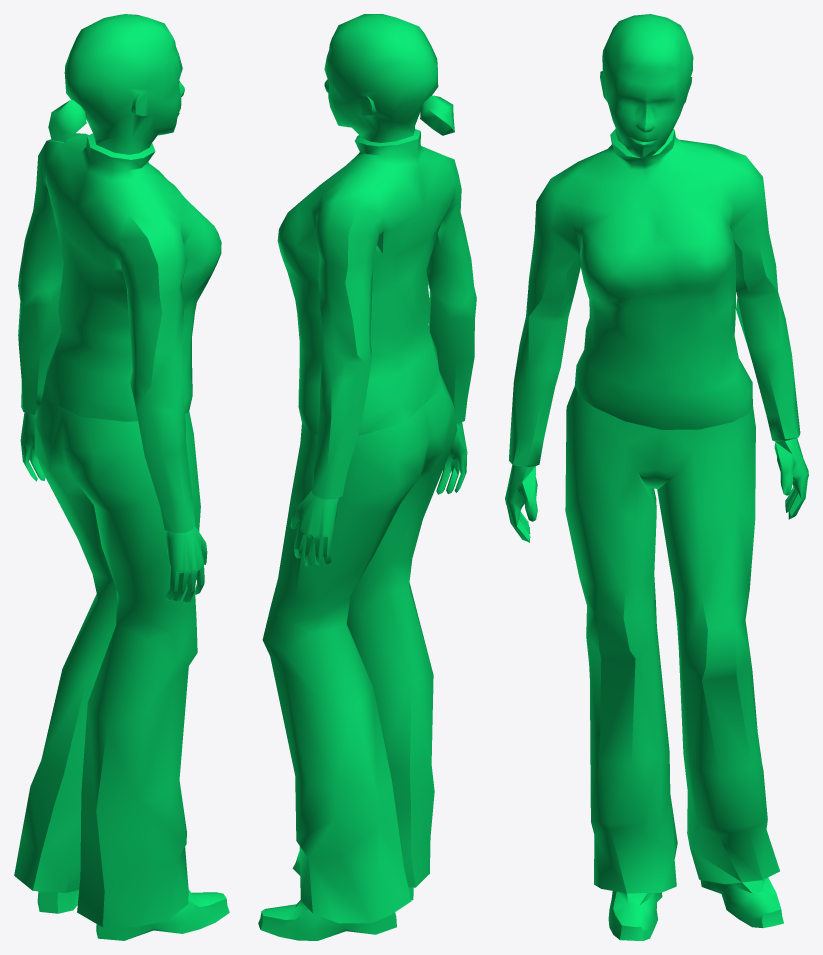
The model's file is SM_Woman_Pants_Stand_Stay.glb.
3 renders of one model, left to right at view 1: azimuth 30°, elevation 25°; view 2: azimuth 150°, elevation 25°; view 3: azimuth 270°, elevation 25°, orthographic. The views are drawn at different scales.
Visible parts, largest first — view 1: SM_Woman_Pants_Stand_Stay; view 2: SM_Woman_Pants_Stand_Stay; view 3: SM_Woman_Pants_Stand_Stay.
Part boxes in pixels (x1,y1,x2,y2): SM_Woman_Pants_Stand_Stay: (14, 14, 229, 940); SM_Woman_Pants_Stand_Stay: (258, 14, 476, 940); SM_Woman_Pants_Stand_Stay: (505, 14, 808, 940).
Bounding box in the file's own units: 0.3328 × 1.7 × 0.5331.
